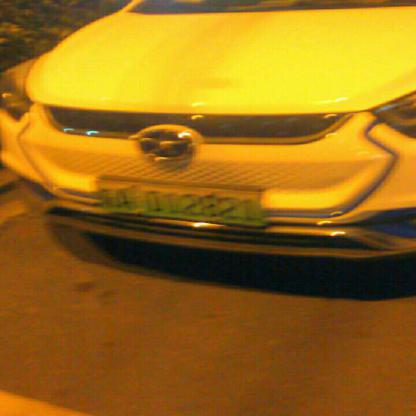lp: (97, 177, 265, 225)
